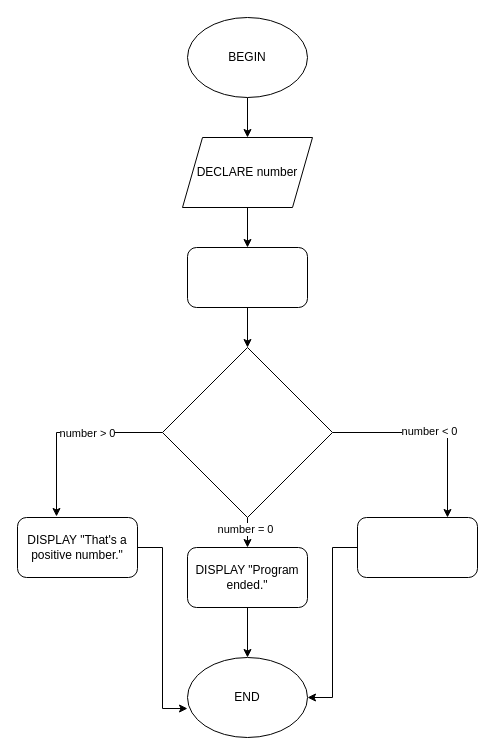
This 495x755 diagram has some shape labels left out. Each missing label, with the centre of its shape:
DISPLAY "Enter a number (0 to stop): ": pixel 247 277
DISPLAY "That's a negative number.": pixel 417 547
User inputs number: pixel 247 432
